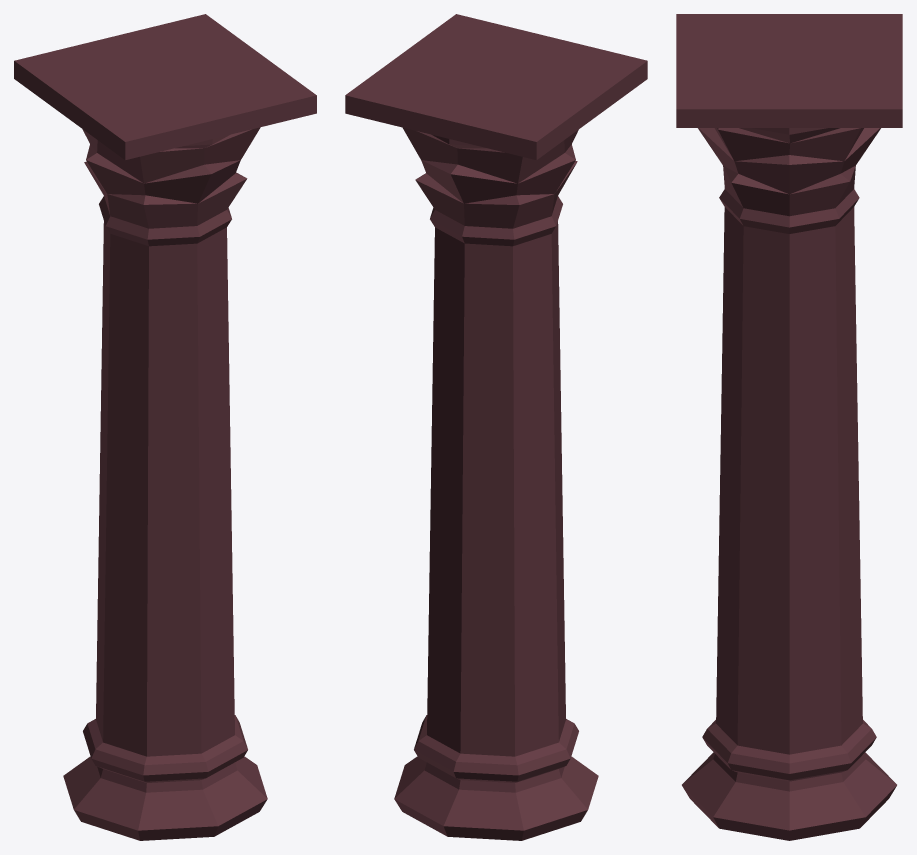
The model's file is SM_Pillar_Corinthian_Small_Empire.fbx.
3 views of the same model, side by side, from view 1: azimuth 30°, elevation 25°; view 2: azimuth 150°, elevation 25°; view 3: azimuth 270°, elevation 25° (orthographic).
Parts seen in each view (by area): view 1: SM_Pillar_Corinthian_Small_Empire; view 2: SM_Pillar_Corinthian_Small_Empire; view 3: SM_Pillar_Corinthian_Small_Empire.
Boxes of the visible parts, box(x1,y1,x2,y2) form: SM_Pillar_Corinthian_Small_Empire: box(14, 14, 316, 840); SM_Pillar_Corinthian_Small_Empire: box(345, 14, 647, 840); SM_Pillar_Corinthian_Small_Empire: box(676, 14, 902, 840).
Size of the model in its own units: 0.8316 by 3 by 0.8355.
